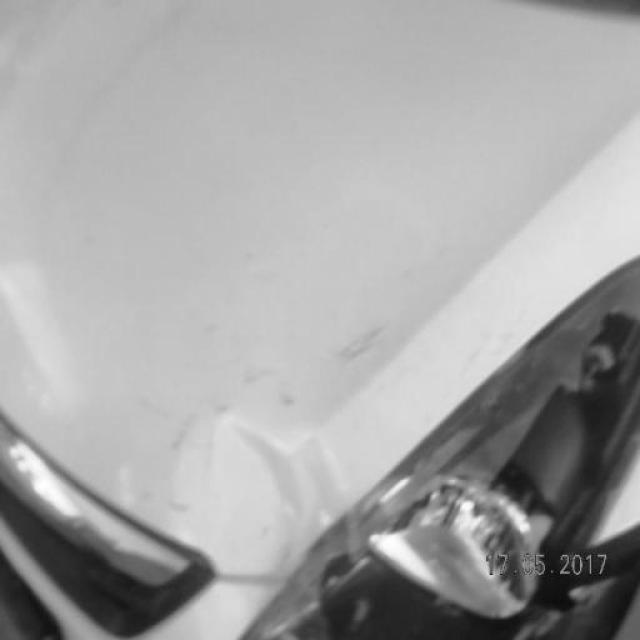dent: (194, 405, 348, 569)
